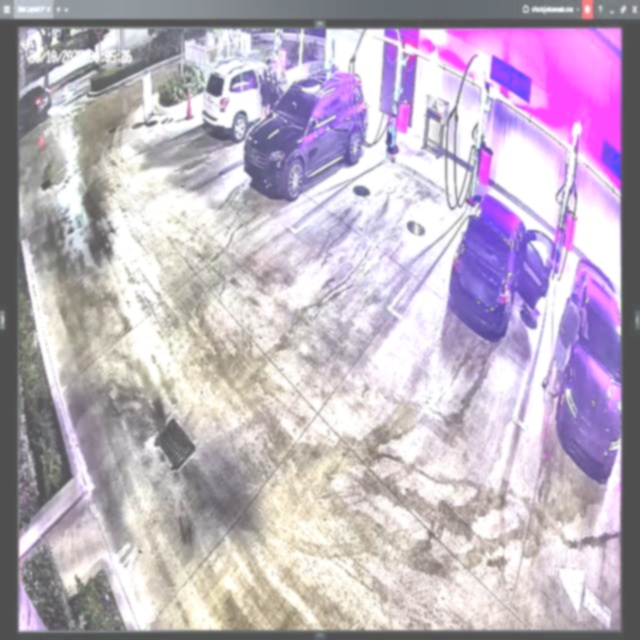Car: (245, 66, 368, 200), (448, 191, 553, 332)
